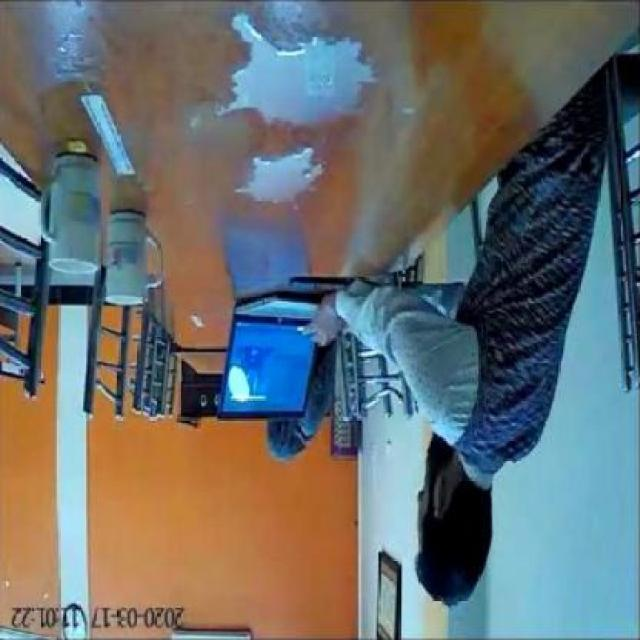spillage: (225, 13, 378, 124), (251, 147, 321, 201)
